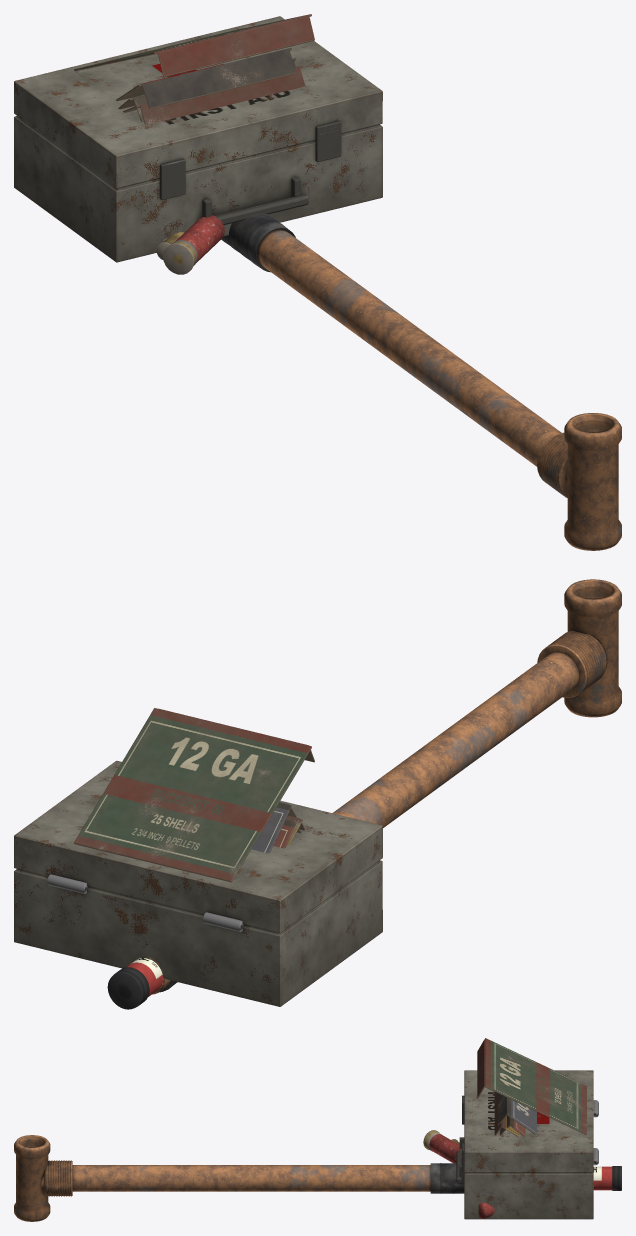
Rendered from pickups.glb.
3 views of the same model, one above another, from view 1: azimuth 30°, elevation 25°; view 2: azimuth 150°, elevation 25°; view 3: azimuth 270°, elevation 25° (orthographic). The views are drawn at different scales.
Visible parts, largest first — view 1: medkit, pipe, ammo_shotgun, ammo_lever, pipe_b, pipe_a, ammo_revolver; view 2: medkit, ammo_shotgun, pipe, pipe_b, flare, pipe_a, ammo_lever; view 3: medkit, pipe, ammo_shotgun, pipe_b, pipe_a, ammo_lever, flare, ammo_revolver.
Boxes of the visible parts, x1,y1,x2,y2 form: medkit: [14, 16, 382, 262]; pipe: [221, 213, 621, 550]; ammo_shotgun: [74, 14, 320, 274]; ammo_lever: [116, 48, 296, 260]; pipe_b: [374, 314, 567, 486]; pipe_a: [257, 229, 395, 346]; ammo_revolver: [123, 65, 305, 125]; medkit: [14, 760, 382, 1006]; ammo_shotgun: [74, 708, 320, 882]; pipe: [133, 579, 621, 994]; pipe_b: [383, 652, 579, 807]; flare: [107, 957, 162, 1009]; pipe_a: [161, 776, 408, 990]; ammo_lever: [251, 802, 296, 853]; medkit: [456, 1070, 598, 1219]; pipe: [14, 1135, 464, 1221]; ammo_shotgun: [423, 1038, 586, 1219]; pipe_b: [41, 1165, 286, 1191]; pipe_a: [286, 1165, 430, 1191]; ammo_lever: [451, 1093, 536, 1144]; flare: [593, 1166, 621, 1190]; ammo_revolver: [494, 1092, 519, 1136].
Bounding box in the file's own units: 0.2477 × 0.2089 × 0.7525.
17 materials, 17 textured.
